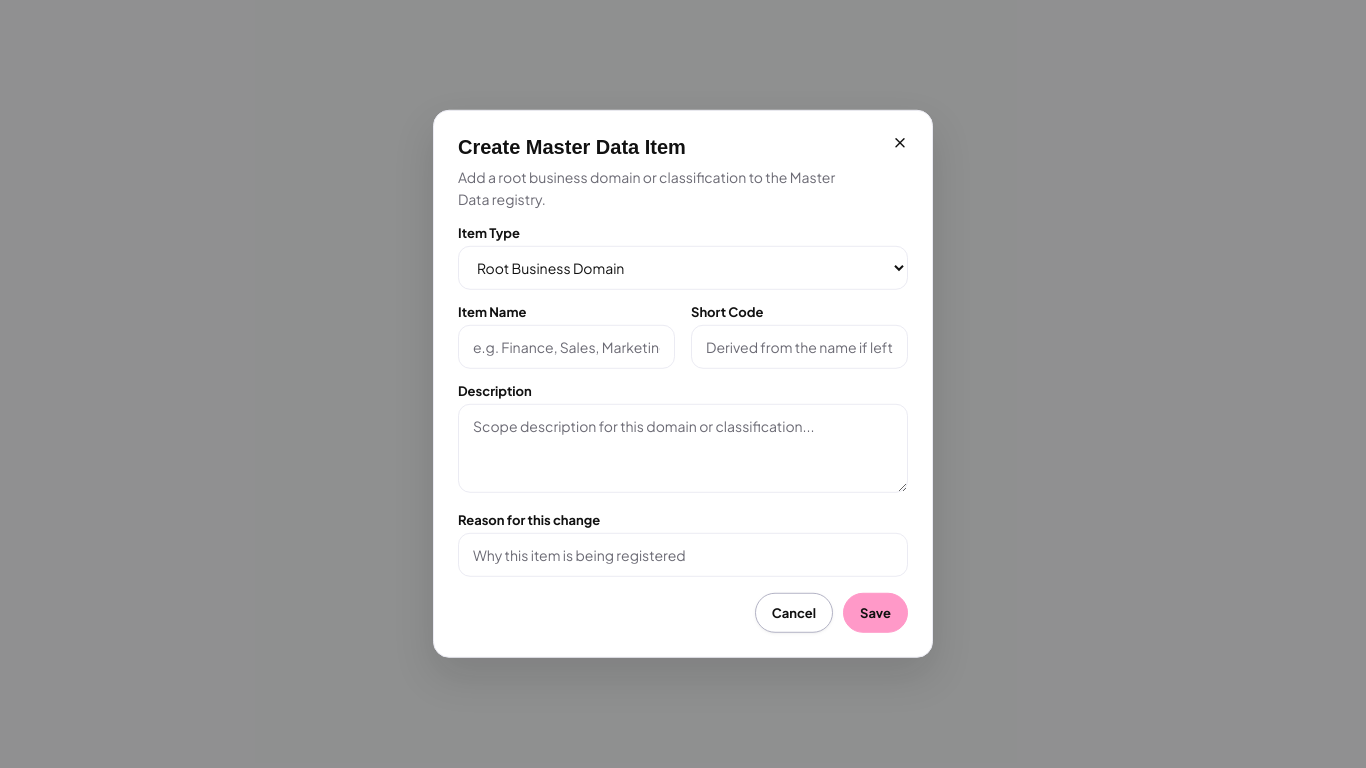
it: the reason the endpoint requires is asked for before any write is sent
Type "Finance" into the field labelled "Item Name" at x=566, y=347, box [458,325,675,369]
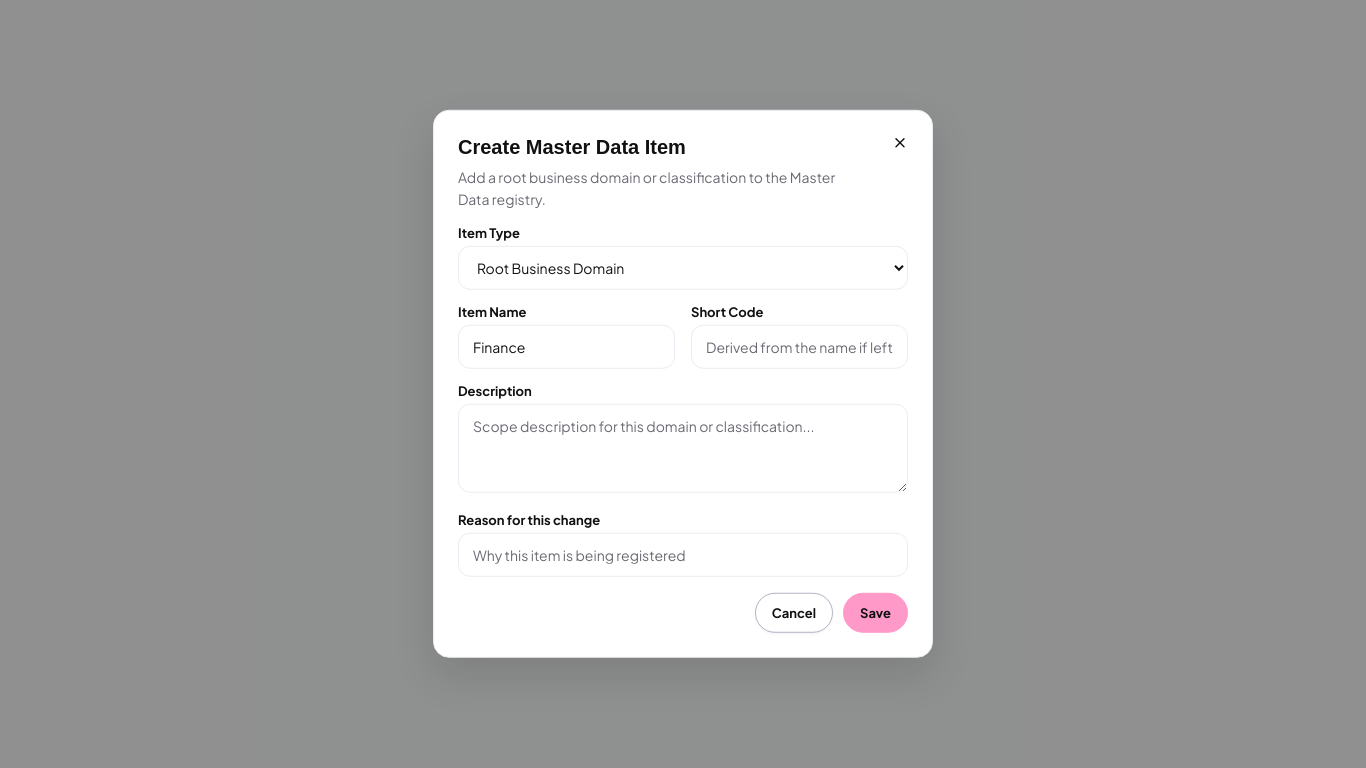
Click the button "Save" at x=876, y=613, box [843,593,908,633]
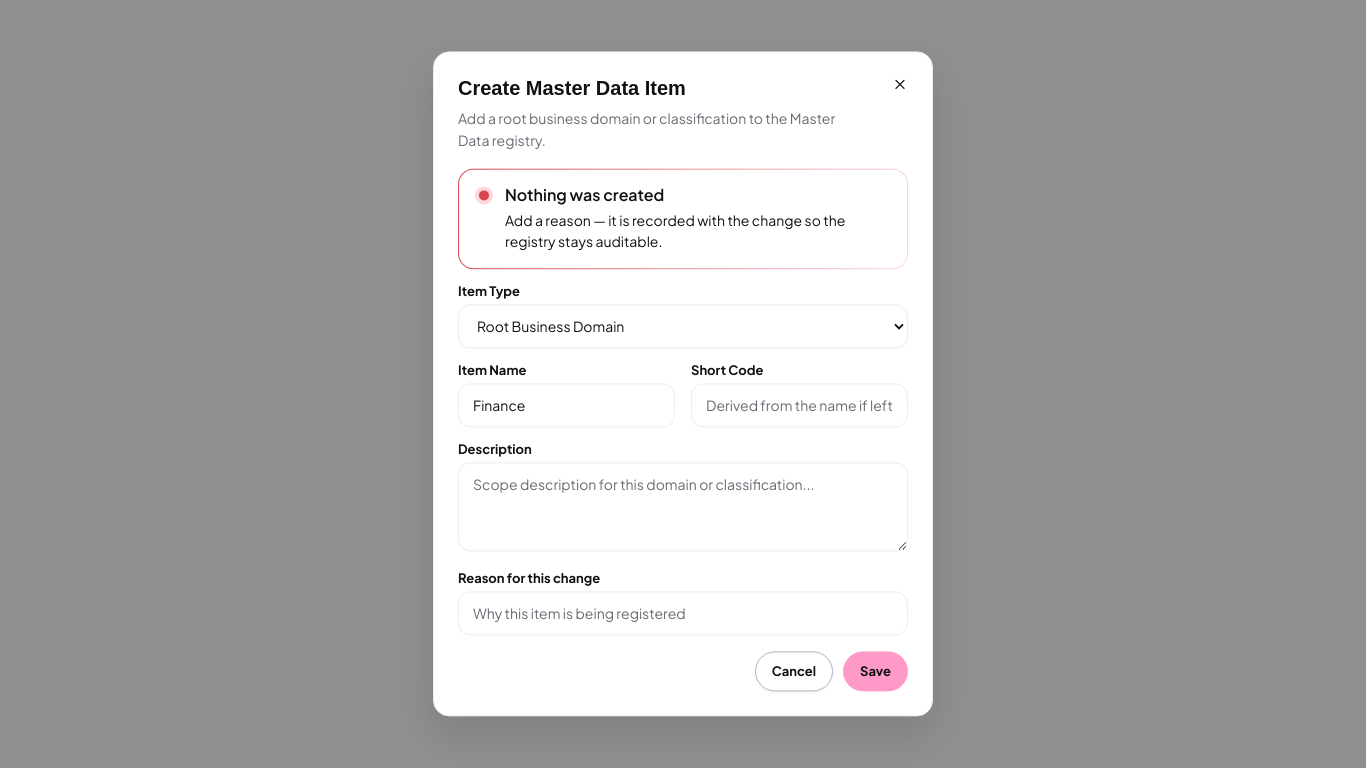
Check: the text "Add a reason" is shown, box [505,211,845,250]
